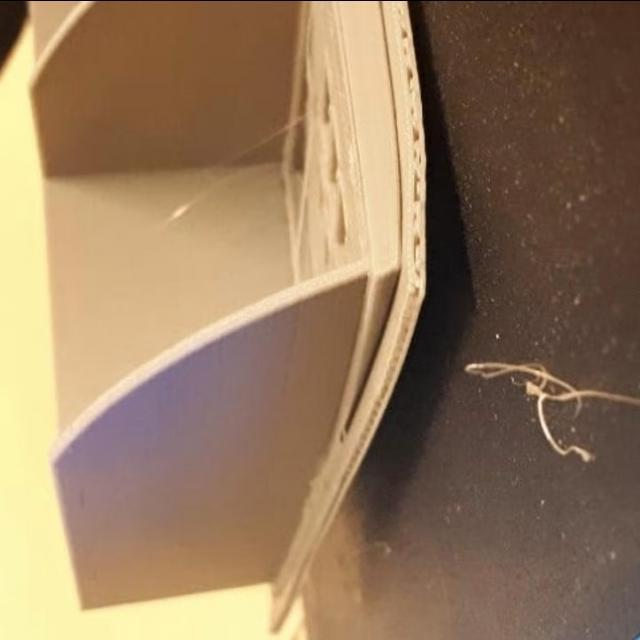Warping: (265, 295, 472, 640), (409, 110, 451, 318)
